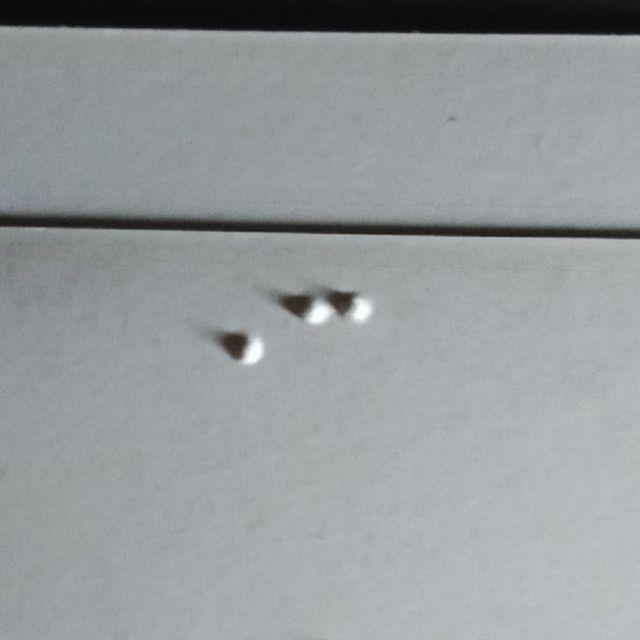dot_5: (175, 293, 264, 401)
karaniwan: (283, 292, 372, 400)
